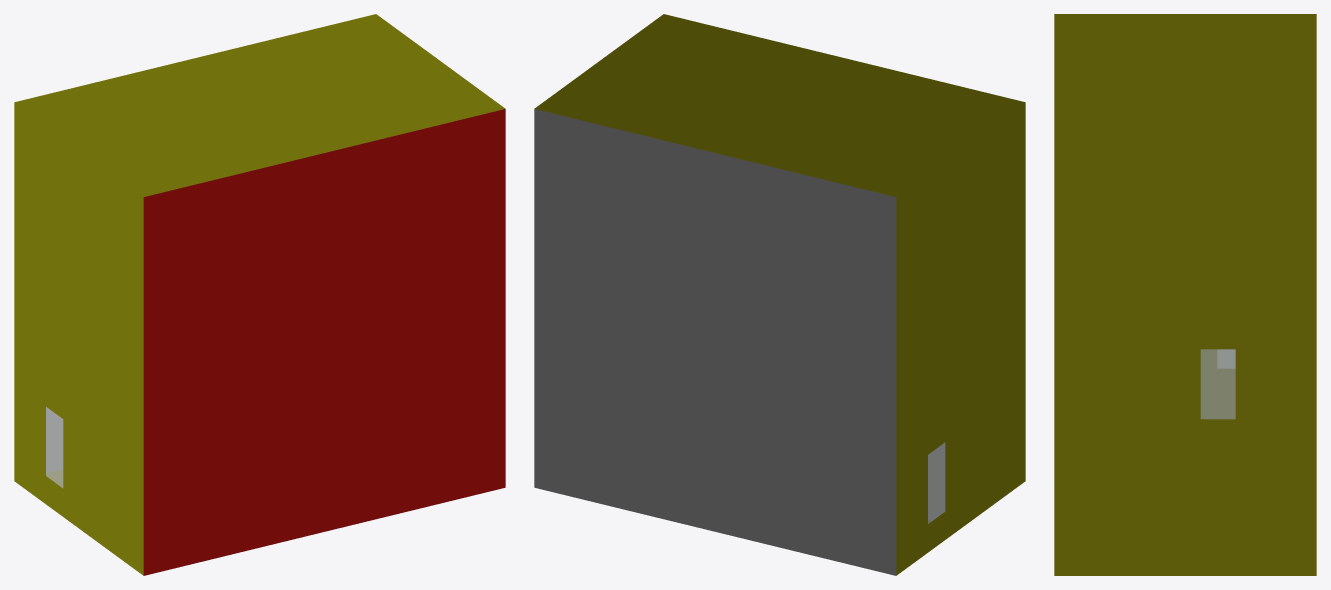
File: idf.obj
3 renders of one model, left to right at view 1: azimuth 30°, elevation 25°; view 2: azimuth 150°, elevation 25°; view 3: azimuth 270°, elevation 25°, orthographic.
Bounding box in the file's own units: 10 × 10 × 6.2.
